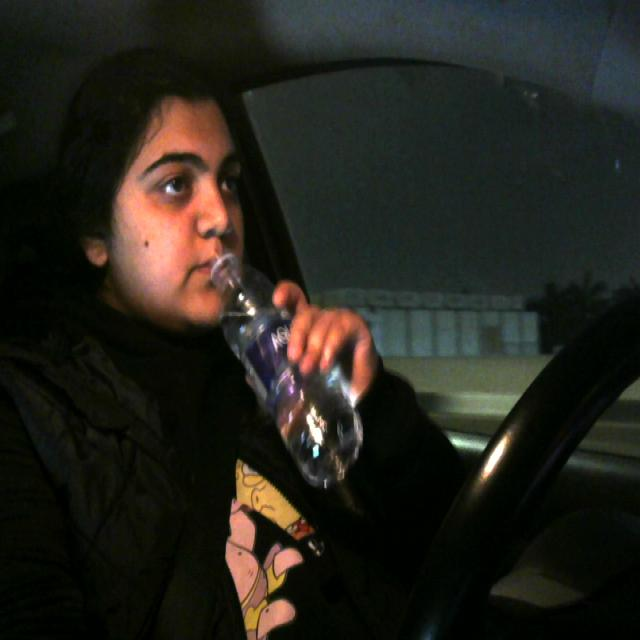drinking: (204, 247, 365, 492)
